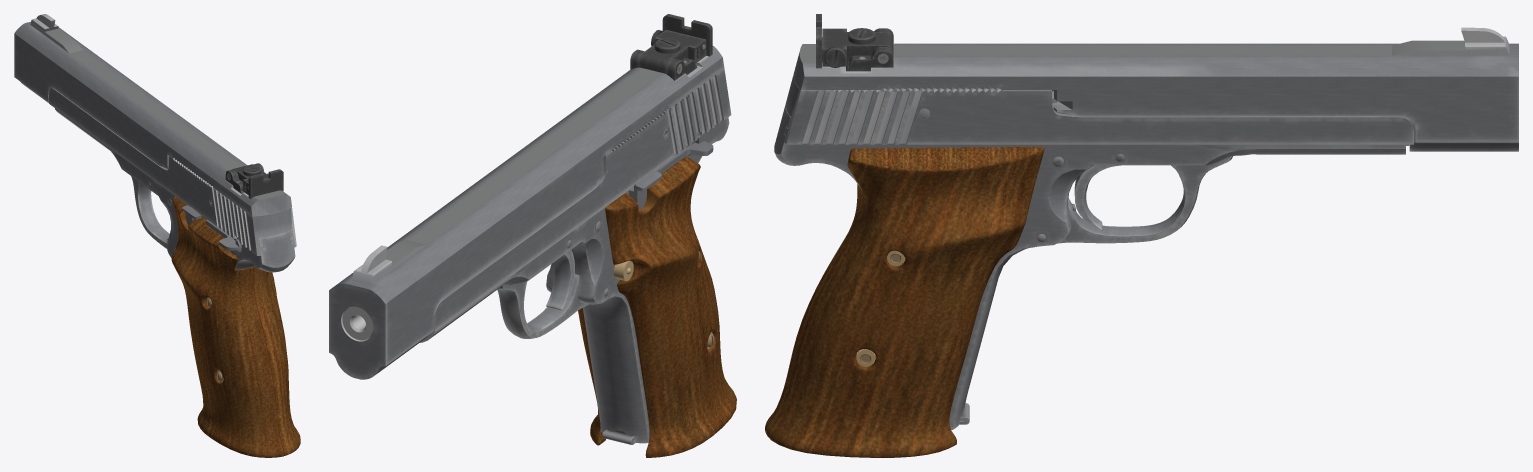
The model's file is Handgun.fbx.
3 renders of one model, left to right at view 1: azimuth 30°, elevation 25°; view 2: azimuth 150°, elevation 25°; view 3: azimuth 270°, elevation 25°, orthographic. The views are drawn at different scales.
Visible parts, largest first — view 1: grip.L_low.001, barrel_low.001, slide_low.001, grip.R_low.001, frame_low.001, rear_sight_low.001, trigger_guard_low.001, safety_lever_low.001; view 2: barrel_low.001, grip.L_low.001, frame_low.001, slide_low.001, rear_sight_low.001, trigger_guard_low.001, trigger_low.001, safety_lever_low.001, grip.R_low.001, slide_stop_finger_access_low.001; view 3: grip.R_low.001, barrel_low.001, slide_low.001, frame_low.001, trigger_guard_low.001, rear_sight_low.001, trigger_low.001.
Part boxes in pixels (x1,y1,x2,y2): grip.L_low.001: (171, 196, 283, 457); barrel_low.001: (14, 14, 291, 216); slide_low.001: (49, 88, 296, 255); grip.R_low.001: (253, 266, 300, 455); frame_low.001: (55, 108, 295, 272); rear_sight_low.001: (225, 163, 283, 199); trigger_guard_low.001: (131, 176, 169, 248); safety_lever_low.001: (205, 219, 241, 255); barrel_low.001: (329, 46, 724, 379); grip.L_low.001: (605, 156, 736, 457); frame_low.001: (420, 117, 729, 443); slide_low.001: (433, 69, 731, 331); rear_sight_low.001: (630, 14, 712, 80); trigger_guard_low.001: (497, 274, 588, 338); trigger_low.001: (546, 250, 574, 310); safety_lever_low.001: (655, 135, 713, 173); grip.R_low.001: (578, 308, 605, 445); slide_stop_finger_access_low.001: (629, 171, 661, 208); grip.R_low.001: (765, 147, 1044, 457); barrel_low.001: (793, 27, 1518, 151); slide_low.001: (784, 73, 1413, 145); frame_low.001: (774, 103, 1405, 429); trigger_guard_low.001: (1024, 156, 1232, 249); rear_sight_low.001: (816, 14, 893, 71); trigger_low.001: (1074, 165, 1120, 230).
Size of the model in its own units: 0.0501 by 0.266 by 0.1585.
14 materials, 14 textured.
